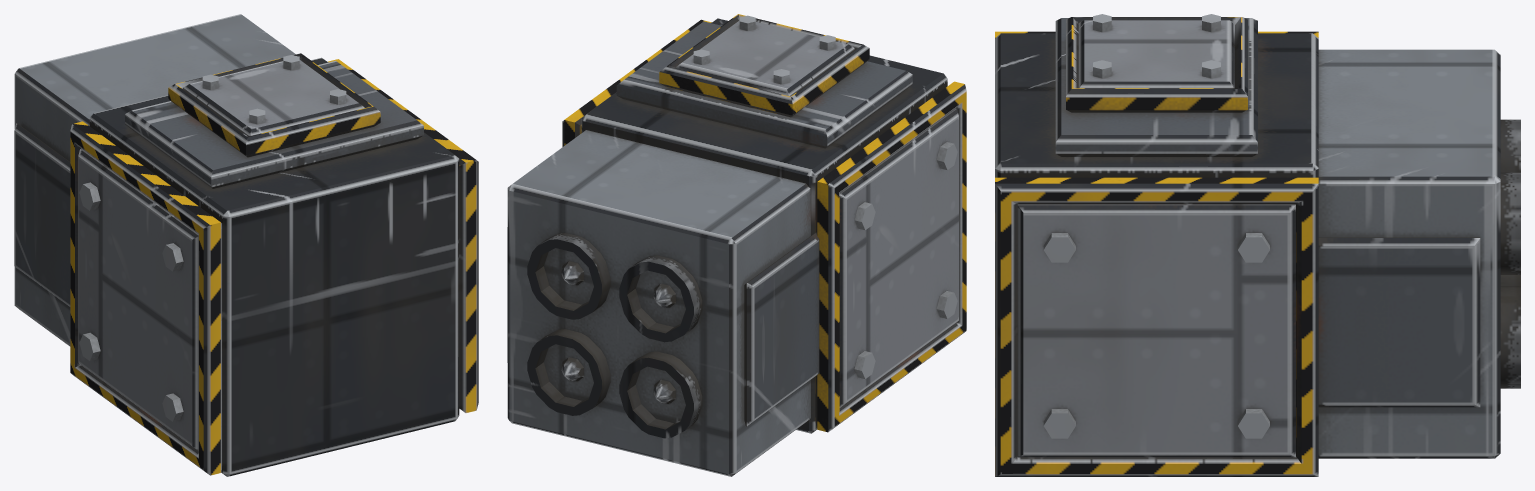
File: misiles_pod_t1.fbx
3 views of the same model, side by side, from view 1: azimuth 30°, elevation 25°; view 2: azimuth 150°, elevation 25°; view 3: azimuth 270°, elevation 25° (orthographic). The views are drawn at different scales.
Parts seen in each view (by area): view 1: misiles_pod_t1; view 2: misiles_pod_t1; view 3: misiles_pod_t1.
Part boxes in pixels (box(x1,y1,x2,y2)): misiles_pod_t1: box(14, 14, 478, 476); misiles_pod_t1: box(507, 14, 966, 476); misiles_pod_t1: box(995, 14, 1520, 476).
Bounding box in the file's own units: 1.96 × 2.01 × 2.6.
